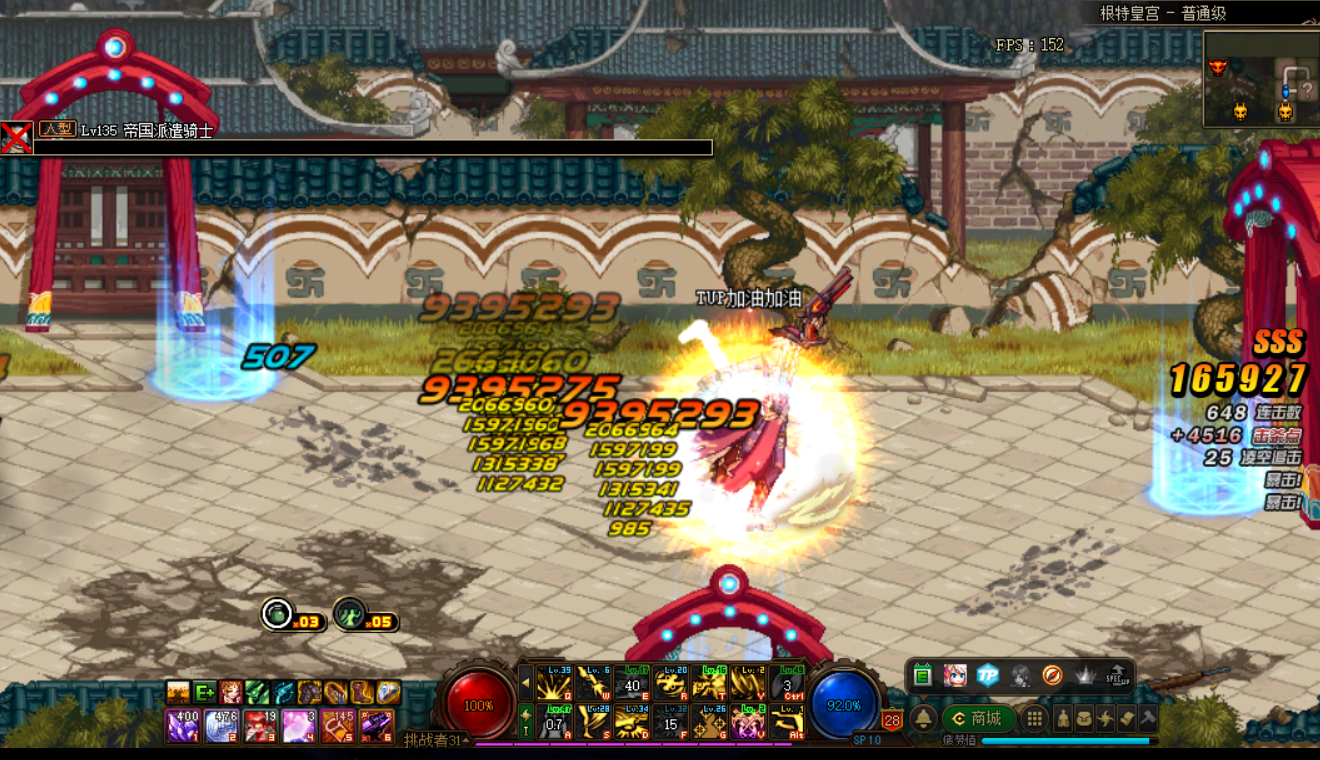warrior: (683, 280, 865, 533)
